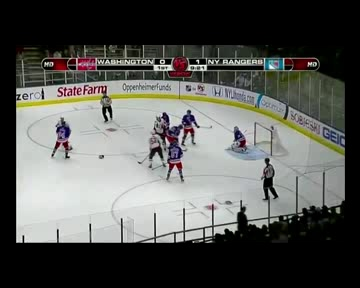normal: (144, 126, 169, 175), (255, 154, 279, 201), (164, 133, 184, 182), (96, 88, 117, 124), (178, 108, 197, 146)
